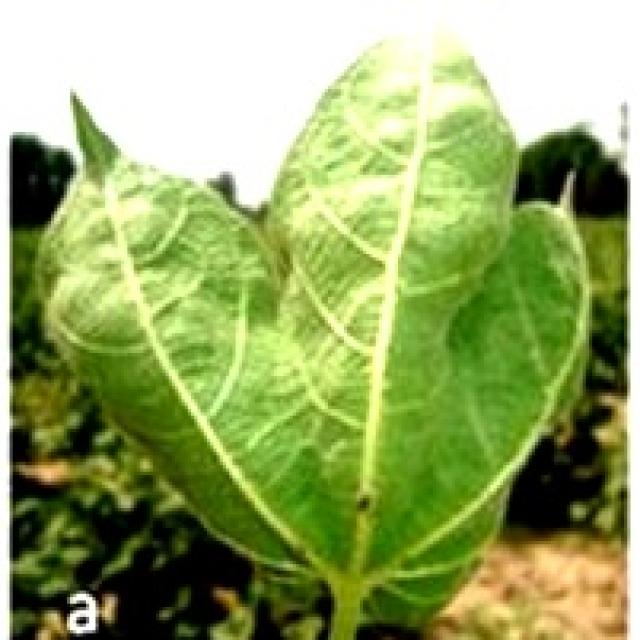Leaf Curl Virus: (74, 147, 514, 490)
